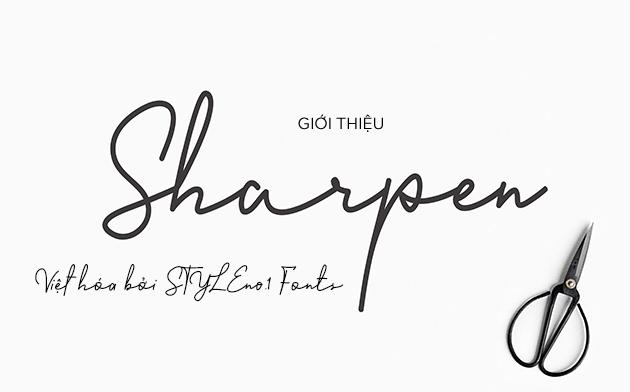text: (100, 88, 550, 316), (32, 260, 345, 303), (296, 113, 387, 135)
